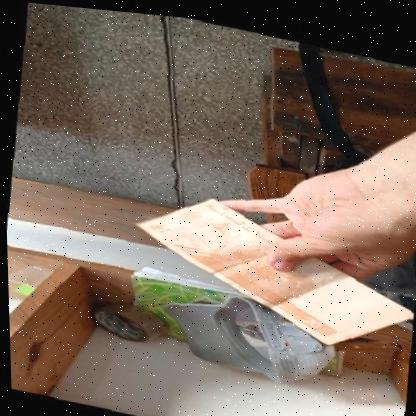vef_back: (124, 179, 416, 355)
